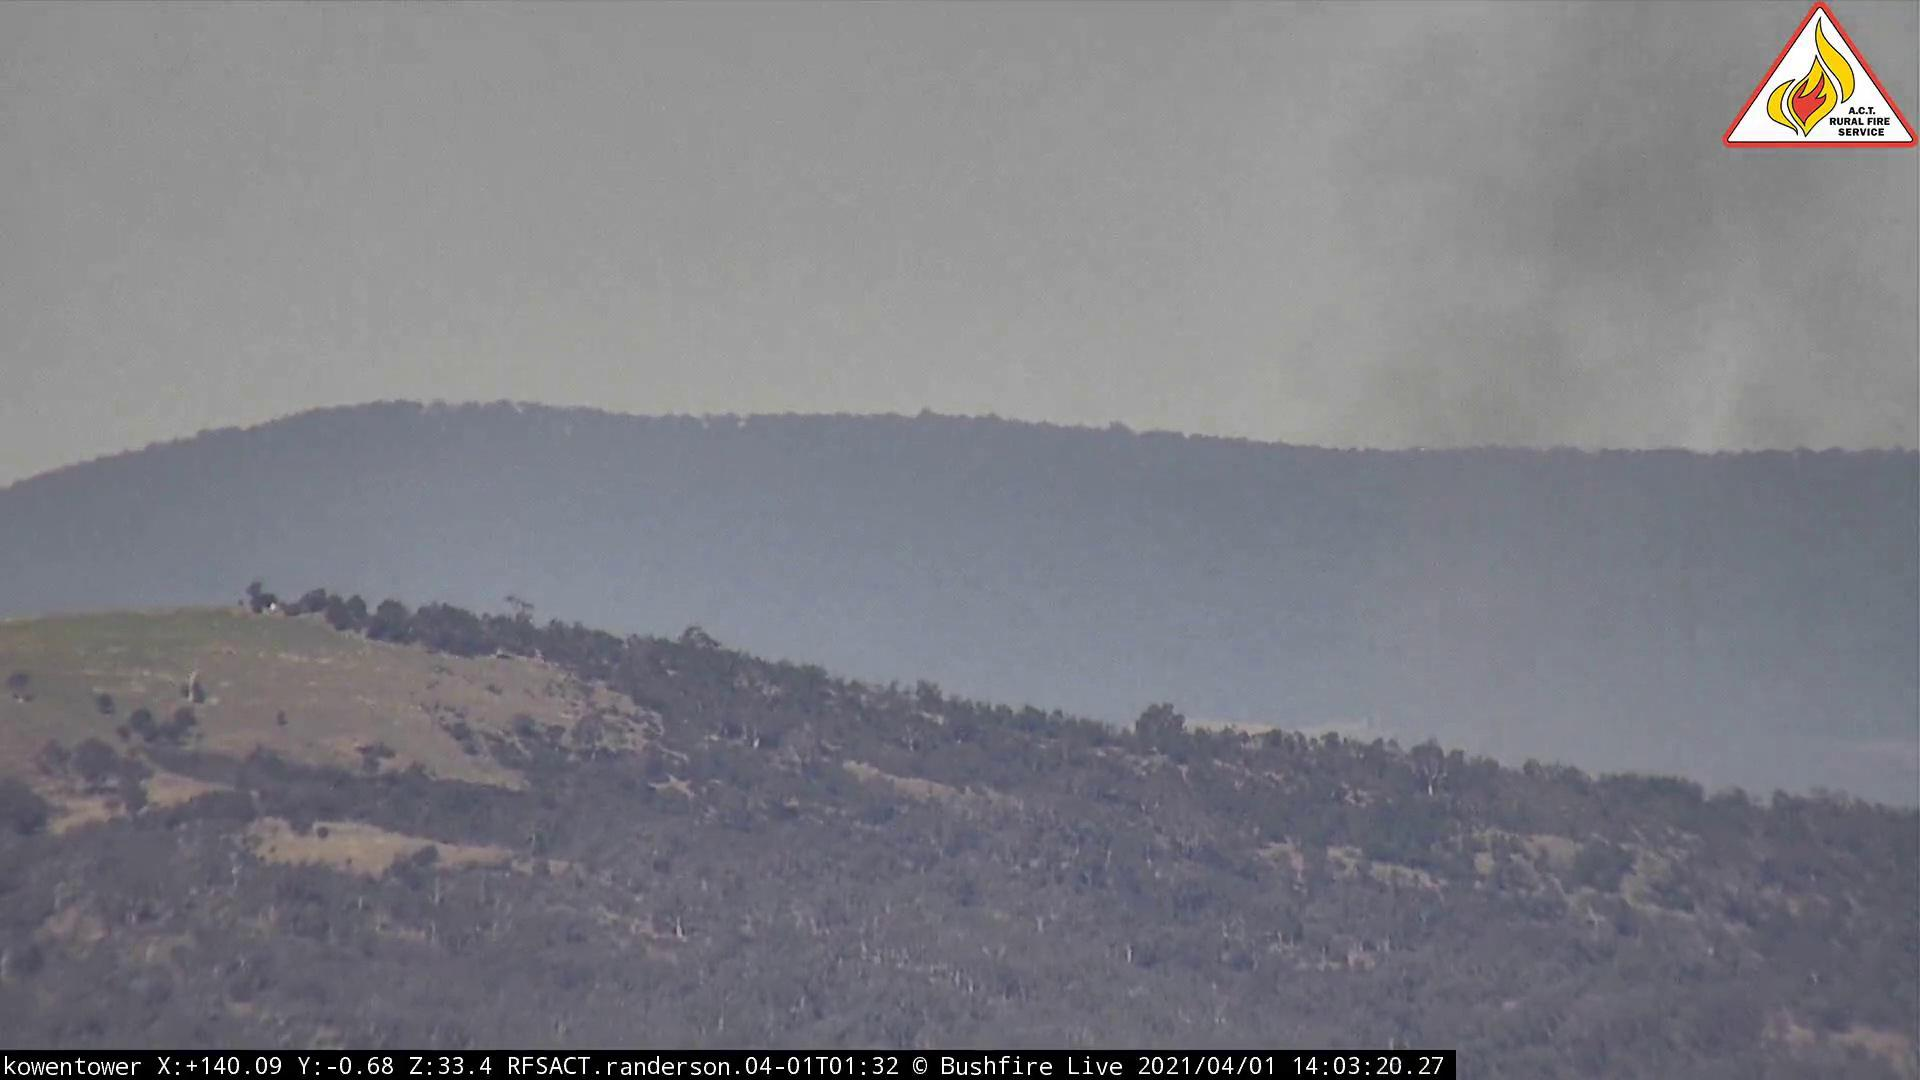Smoke: (1342, 165, 1917, 861)
